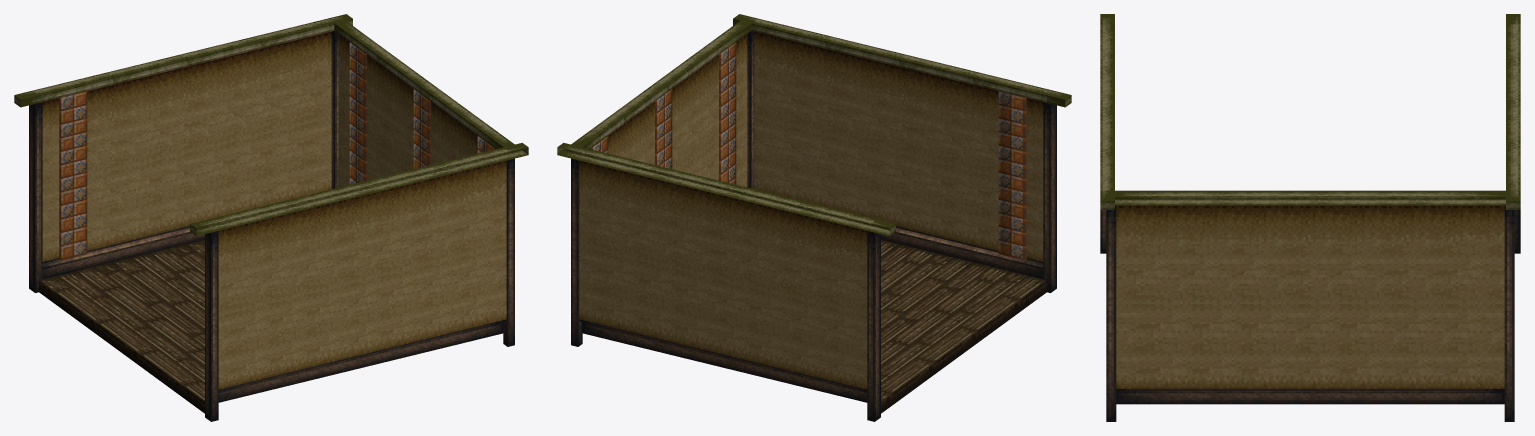
The model's file is EnvBdgMD_Sea_A_Indoor_House_A.FBX.
3 views of the same model, side by side, from view 1: azimuth 30°, elevation 25°; view 2: azimuth 150°, elevation 25°; view 3: azimuth 270°, elevation 25° (orthographic). The views are drawn at different scales.
Parts seen in each view (by area): view 1: EnvBdgMD_Sea_A_Indoor_House_A; view 2: EnvBdgMD_Sea_A_Indoor_House_A; view 3: EnvBdgMD_Sea_A_Indoor_House_A.
Boxes of the visible parts, left/top/right/bottom form: EnvBdgMD_Sea_A_Indoor_House_A: left=14, top=14, right=528, bottom=421; EnvBdgMD_Sea_A_Indoor_House_A: left=557, top=14, right=1071, bottom=421; EnvBdgMD_Sea_A_Indoor_House_A: left=1100, top=14, right=1520, bottom=421.
Bounding box in the file's own units: 900 × 510 × 855.
Materials: 1 (1 with a texture image).
